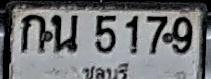1: (125, 16, 138, 54)
5: (95, 15, 116, 53)
7: (146, 15, 167, 54)
9: (168, 16, 192, 54)
A01: (20, 14, 49, 52)
A25: (51, 14, 78, 53)
CBI: (82, 62, 131, 79)
